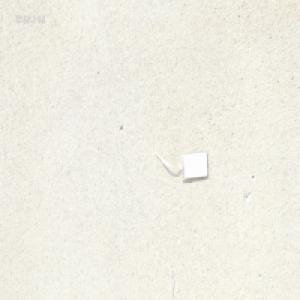LuggageTag: (154, 149, 208, 181)
